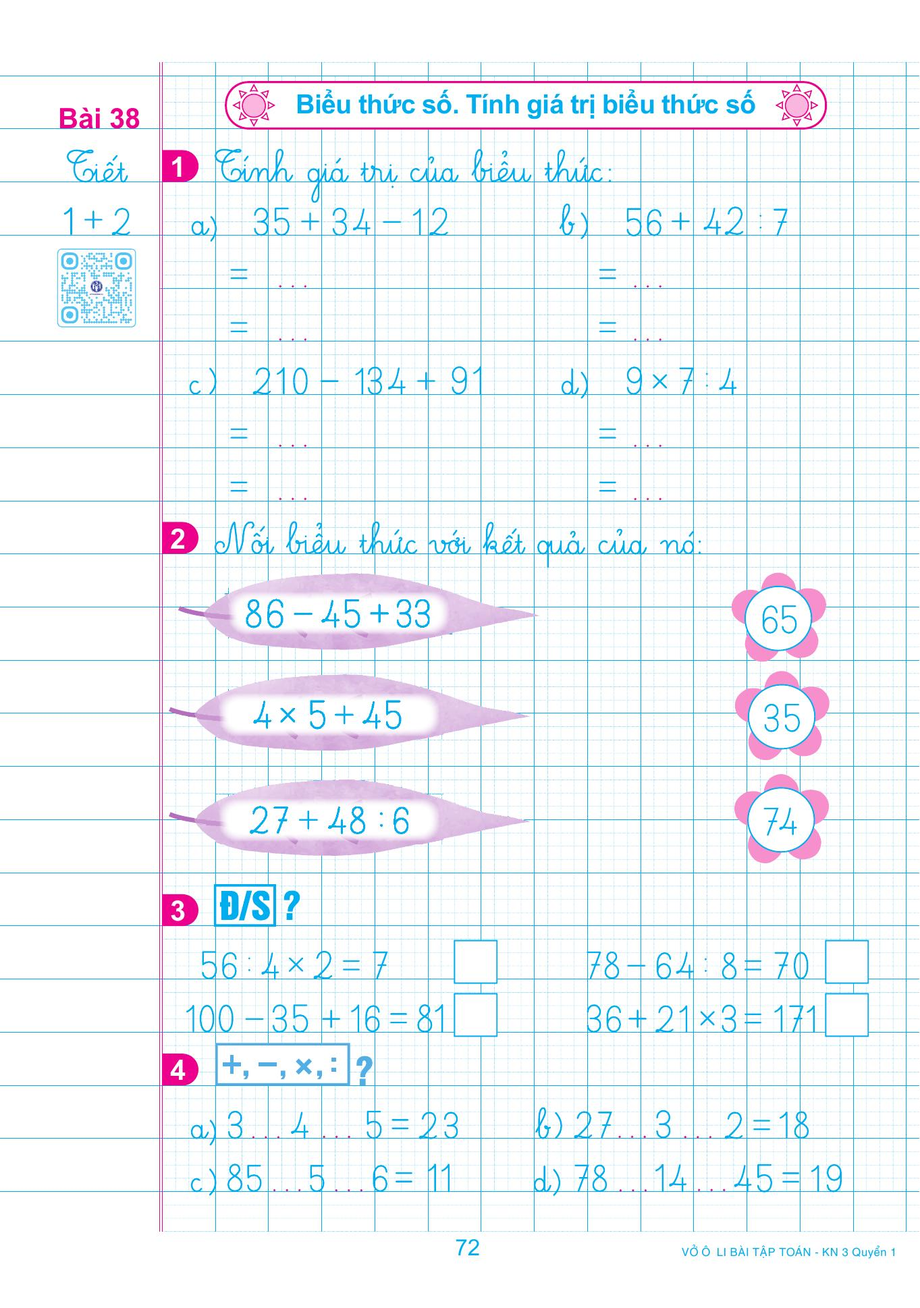None: (156, 874, 920, 1037), (163, 1042, 917, 1190), (157, 76, 920, 130)
Nối: (156, 514, 914, 870)
Điền từ: (157, 134, 914, 512)
